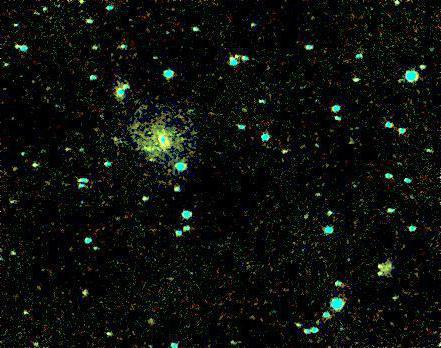star: (131, 136, 161, 166)
